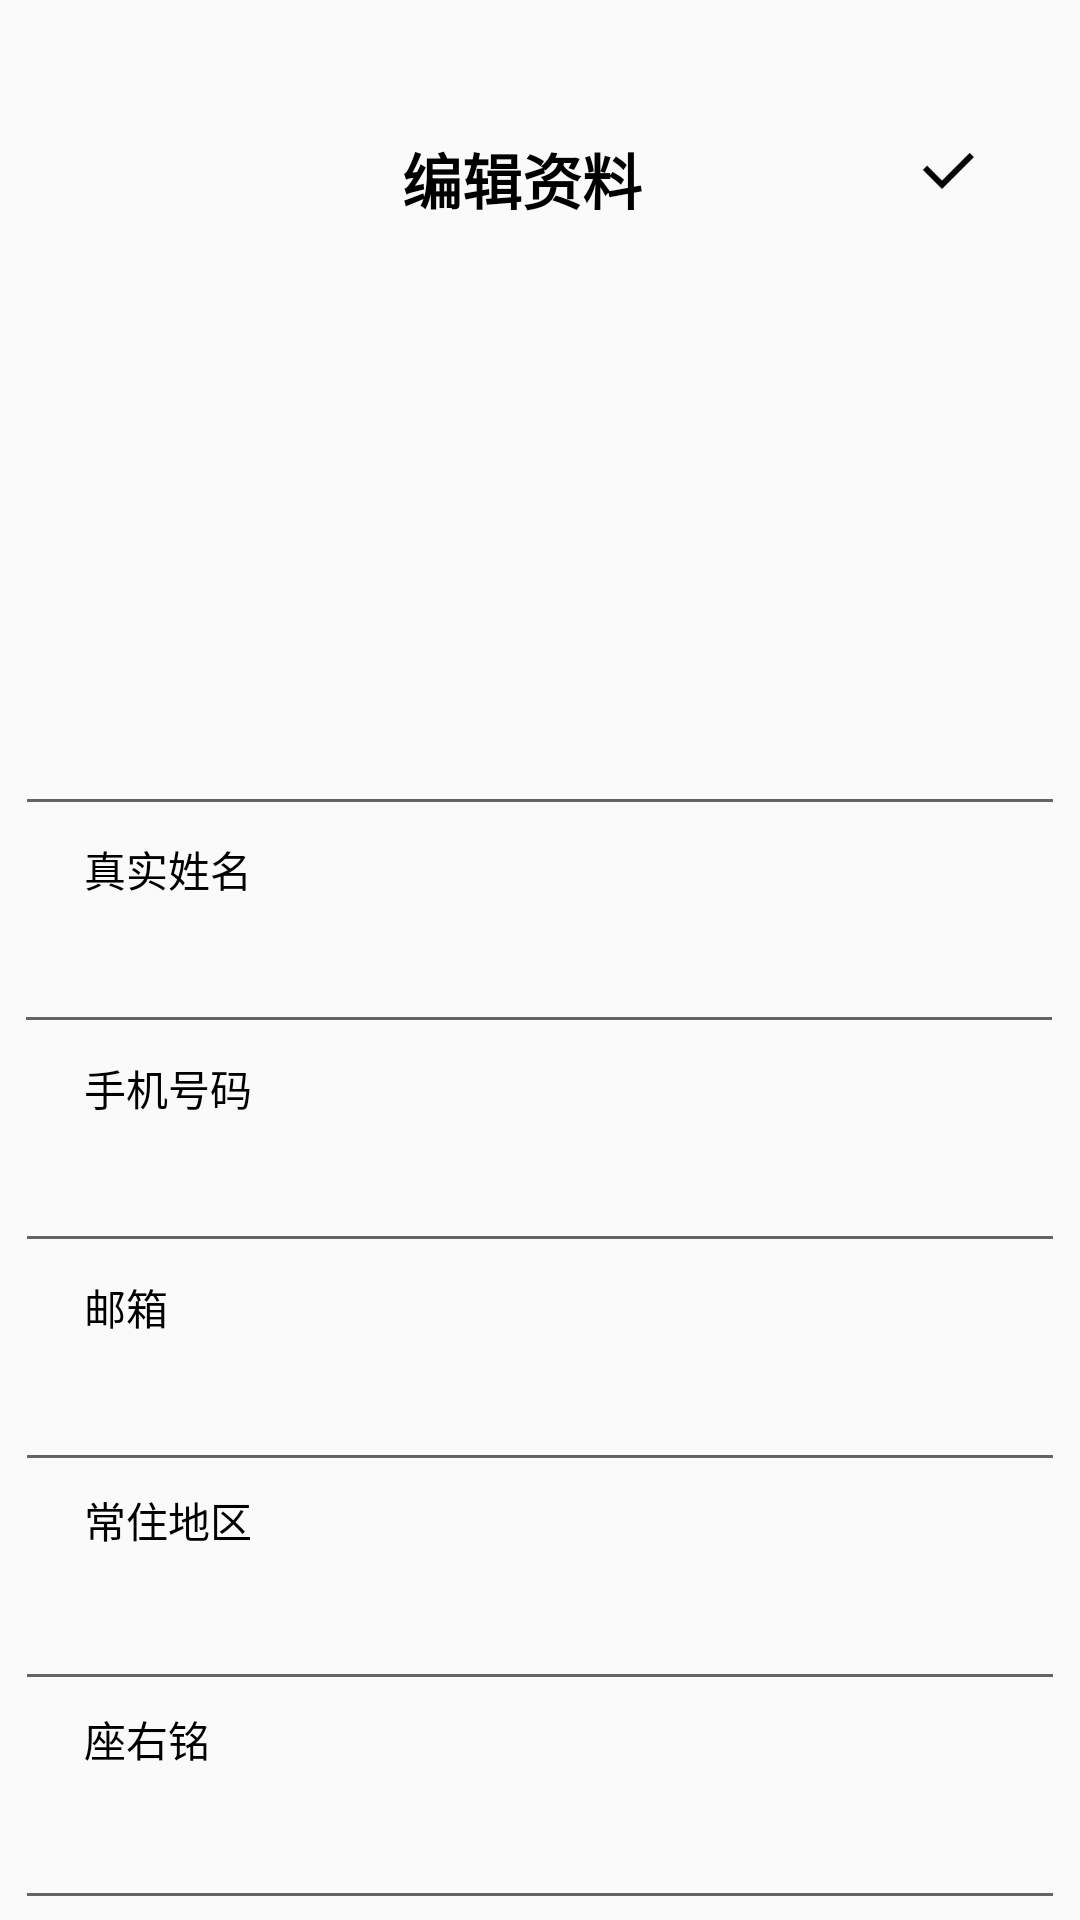

Icons on this 1080px×1920px Android screen, each with the point to tap as [x,y]:
modinf ok dd: [948,171]
